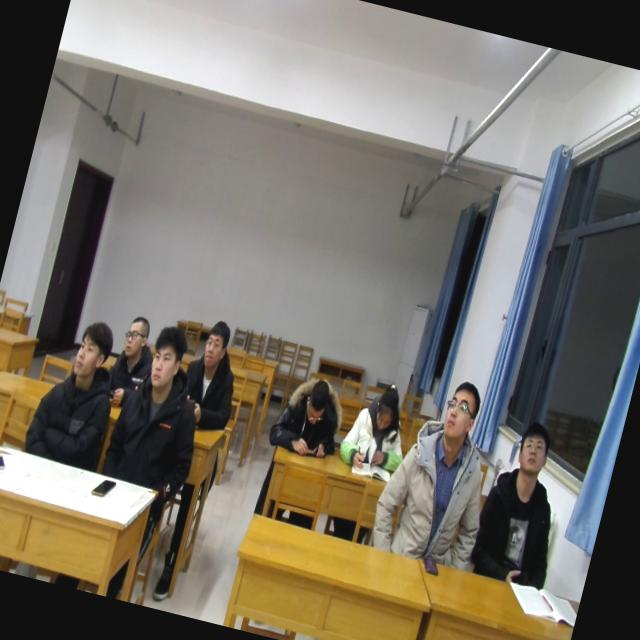down: (365, 376, 405, 441), (298, 373, 336, 429)
lookup: (64, 310, 120, 390), (141, 316, 195, 398), (435, 371, 487, 448), (508, 419, 556, 483), (193, 307, 237, 372), (117, 309, 154, 362)
sit: (366, 368, 514, 576), (97, 316, 223, 499), (468, 414, 582, 588), (21, 310, 134, 471), (334, 373, 418, 493), (264, 358, 355, 462), (176, 316, 252, 430), (105, 304, 162, 396)
